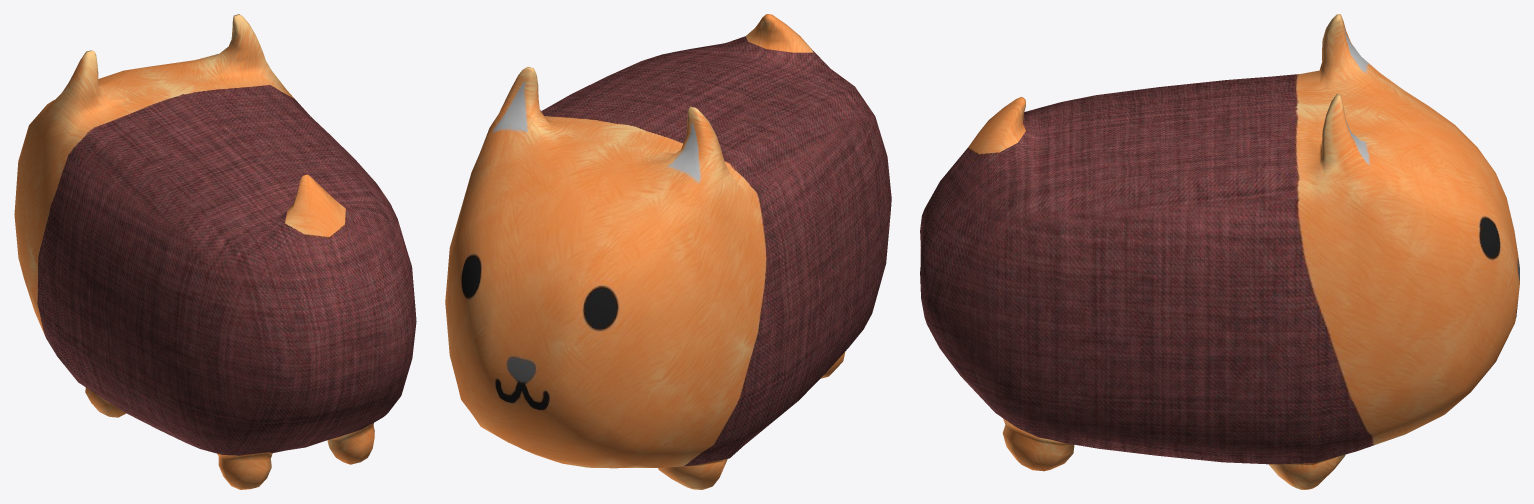
The model's file is MainMesh.gltf.
The picture shows the model from 3 angles, left to right: view 1: azimuth 30°, elevation 25°; view 2: azimuth 150°, elevation 25°; view 3: azimuth 270°, elevation 25°; orthographic projection. The views are drawn at different scales.
Visible parts, largest first — view 1: UV__Potato_v1; view 2: UV__Potato_v1; view 3: UV__Potato_v1.
Boxes of the visible parts, bbox=[...] form: UV__Potato_v1: bbox=[14, 14, 416, 489]; UV__Potato_v1: bbox=[445, 14, 891, 489]; UV__Potato_v1: bbox=[920, 14, 1519, 489].
Size of the model in its own units: 0.9638 by 1.23 by 1.68.
Materials: 1 (1 with a texture image).
